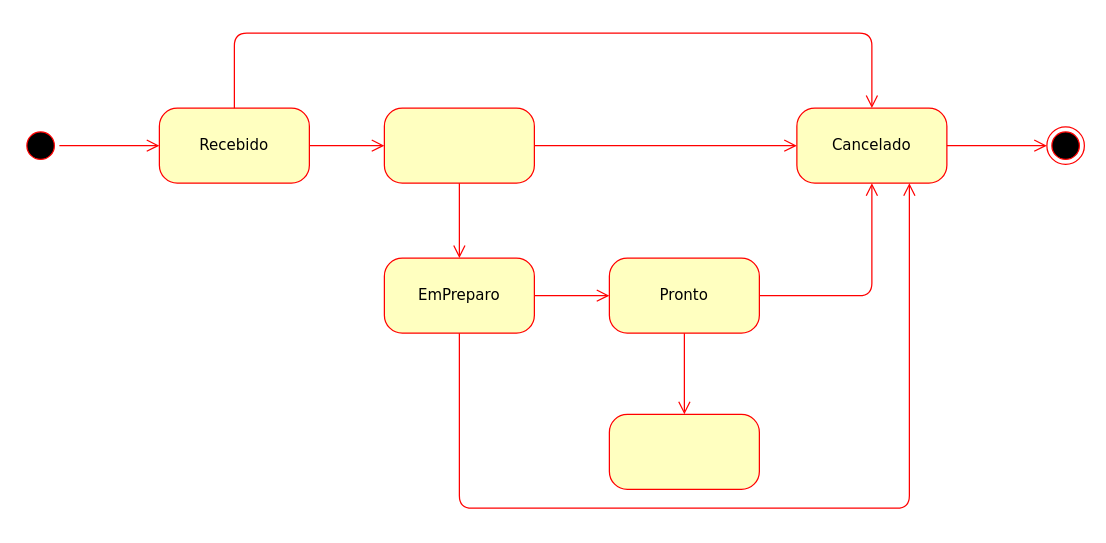
This 1106x543 diagram has some shape labels left out. Each missing label, with the box of its shape:
Confirmado: (383, 107, 534, 183)
Entregue: (608, 413, 759, 489)
